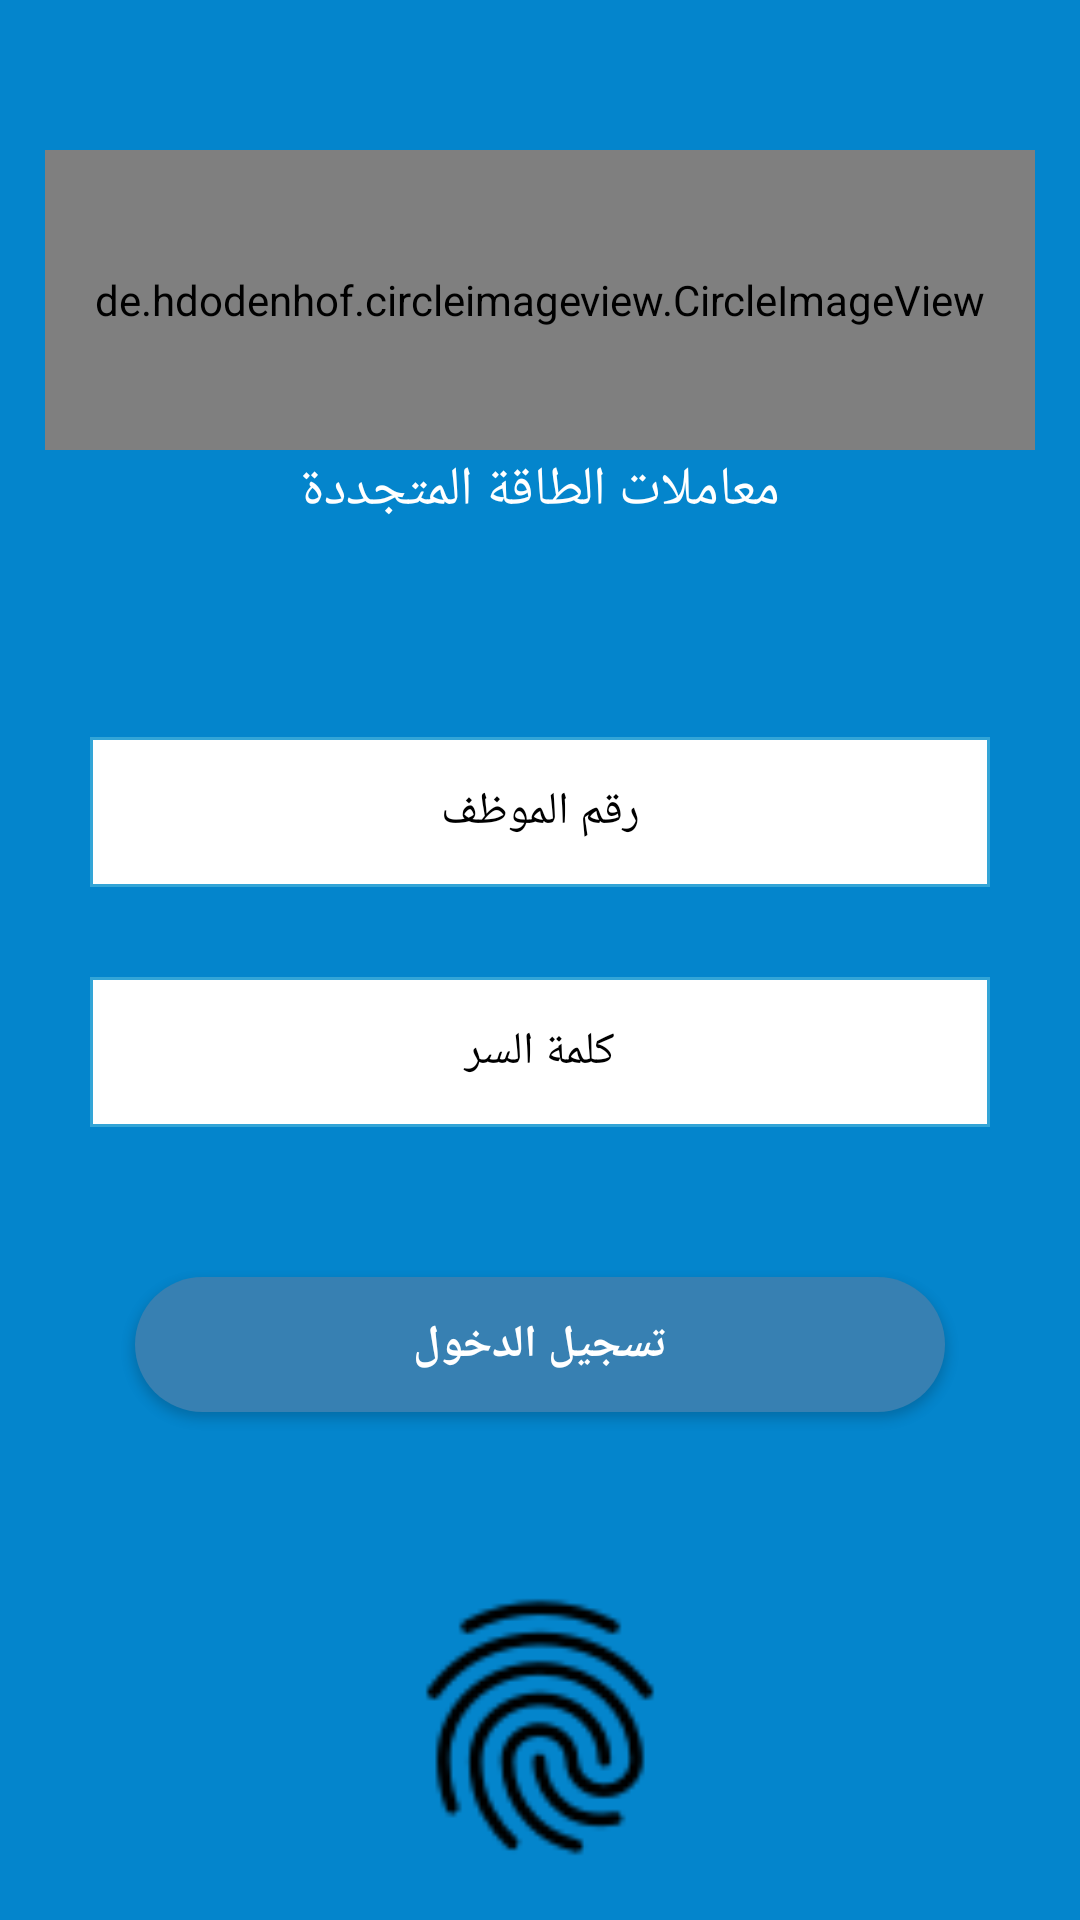

Where to tap for icons on this 1080px x 1920px app screen, as (x,y):
fingerprint: (540,1727)
